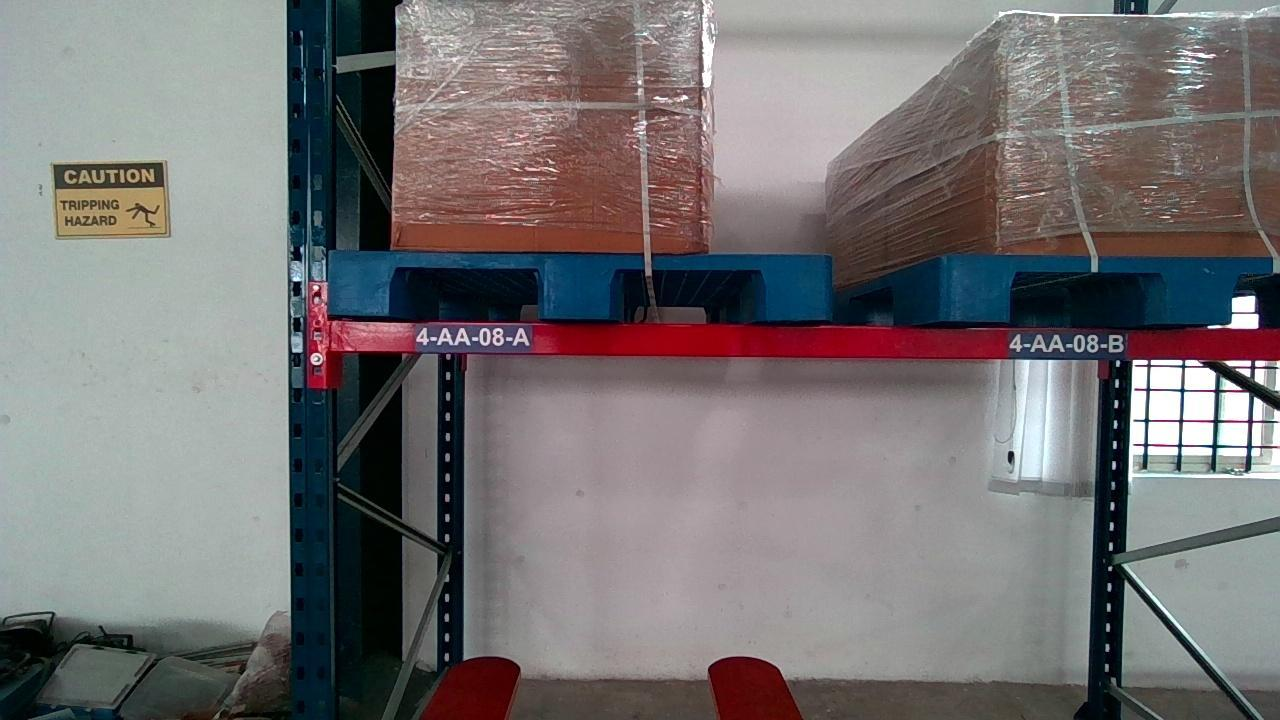h_rack: (326, 325, 1280, 361)
small_pallet: (327, 248, 829, 319), (936, 246, 1280, 320)
